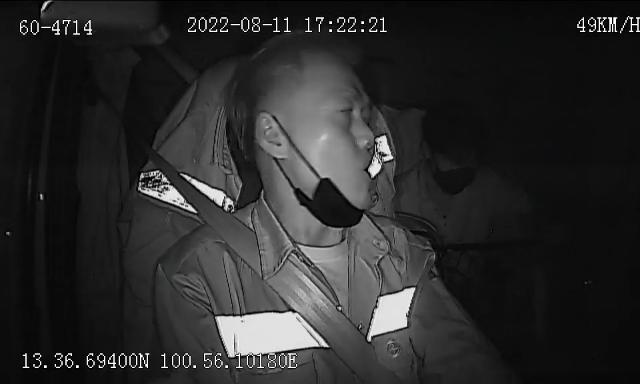Seatbelt: (160, 168, 378, 384)
